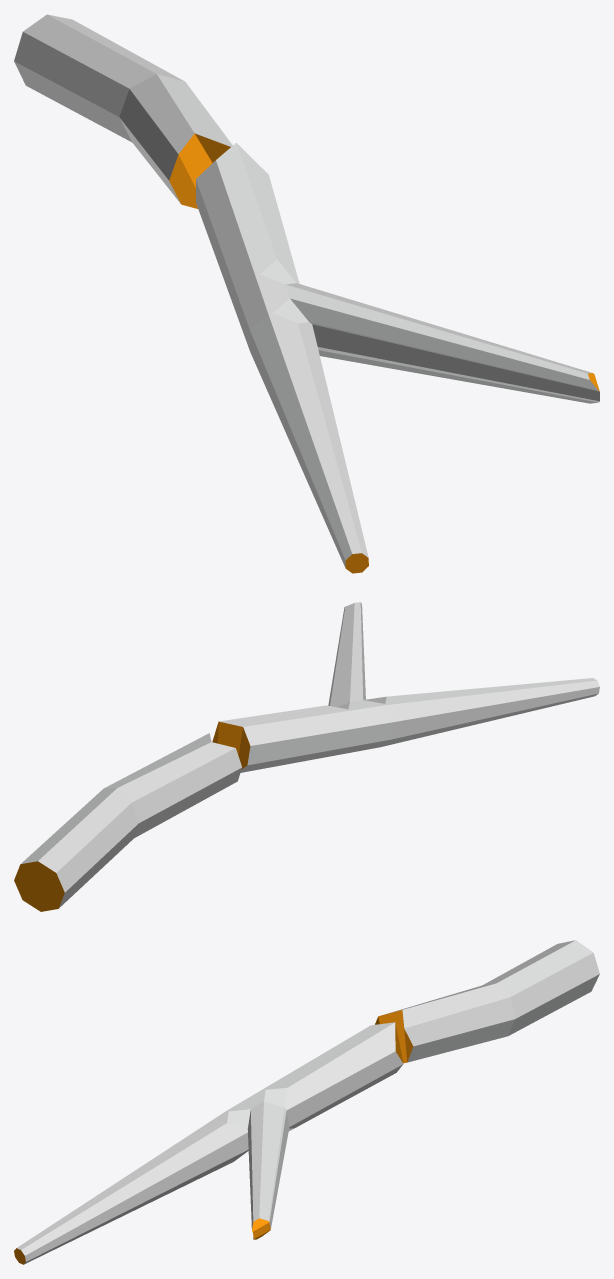
File: Stick_16.fbx
3 views of the same model, one above another, from view 1: azimuth 30°, elevation 25°; view 2: azimuth 150°, elevation 25°; view 3: azimuth 330°, elevation 25° (orthographic). The views are drawn at different scales.
Visible parts, largest first — view 1: Circle.230, Circle.223; view 2: Circle.230, Circle.223; view 3: Circle.230, Circle.223.
Part boxes in pixels (x1,y1,x2,y2): Circle.230: (196, 143, 599, 573); Circle.223: (14, 14, 232, 208); Circle.230: (212, 602, 599, 772); Circle.223: (14, 733, 241, 911); Circle.230: (14, 1022, 403, 1264); Circle.223: (375, 940, 599, 1063).
Size of the model in its own units: 14.62 by 6.88 by 45.42.
